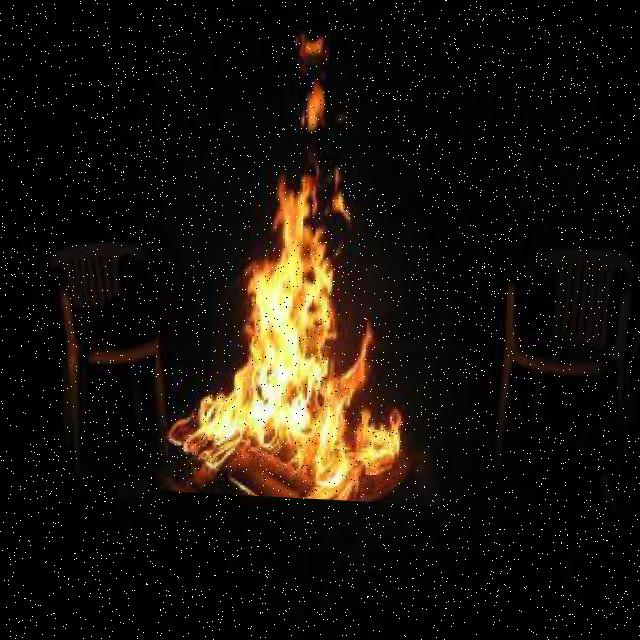fire: (149, 23, 465, 506)
